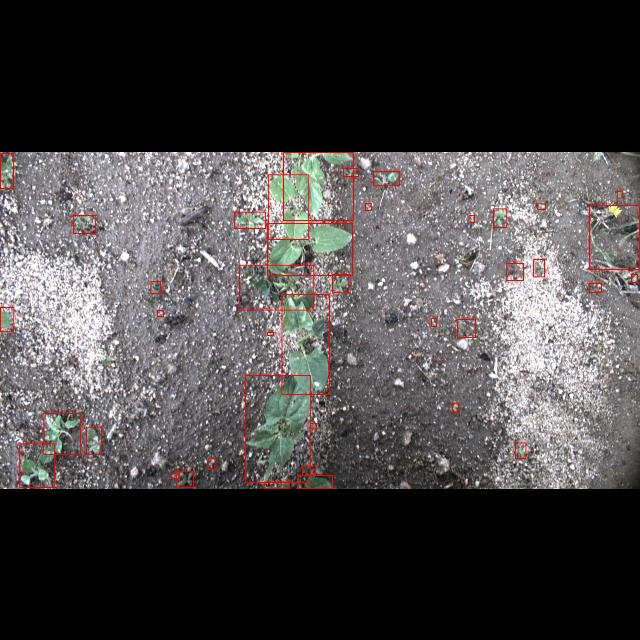crop: (246, 376, 310, 482), (283, 151, 353, 219), (282, 294, 328, 394), (268, 223, 352, 275), (269, 174, 309, 238), (0, 152, 14, 188), (298, 476, 332, 488), (0, 306, 14, 332)
weed: (240, 264, 314, 310), (589, 205, 639, 269), (44, 413, 80, 455), (20, 443, 54, 487), (234, 211, 266, 227), (86, 427, 102, 455), (72, 215, 96, 233), (373, 170, 399, 184), (457, 319, 475, 337), (506, 262, 524, 280), (176, 471, 194, 487), (332, 274, 348, 292), (493, 208, 507, 226), (534, 258, 544, 276), (516, 442, 526, 458), (264, 482, 290, 488), (151, 280, 161, 294), (589, 282, 601, 292), (302, 466, 316, 474), (344, 168, 358, 176), (208, 458, 216, 469), (452, 403, 458, 413), (632, 274, 638, 282), (365, 202, 371, 210), (170, 474, 180, 478), (310, 423, 316, 429), (157, 310, 163, 316), (266, 331, 274, 335), (432, 318, 436, 326), (470, 214, 474, 222), (537, 204, 545, 208), (618, 190, 622, 198)
